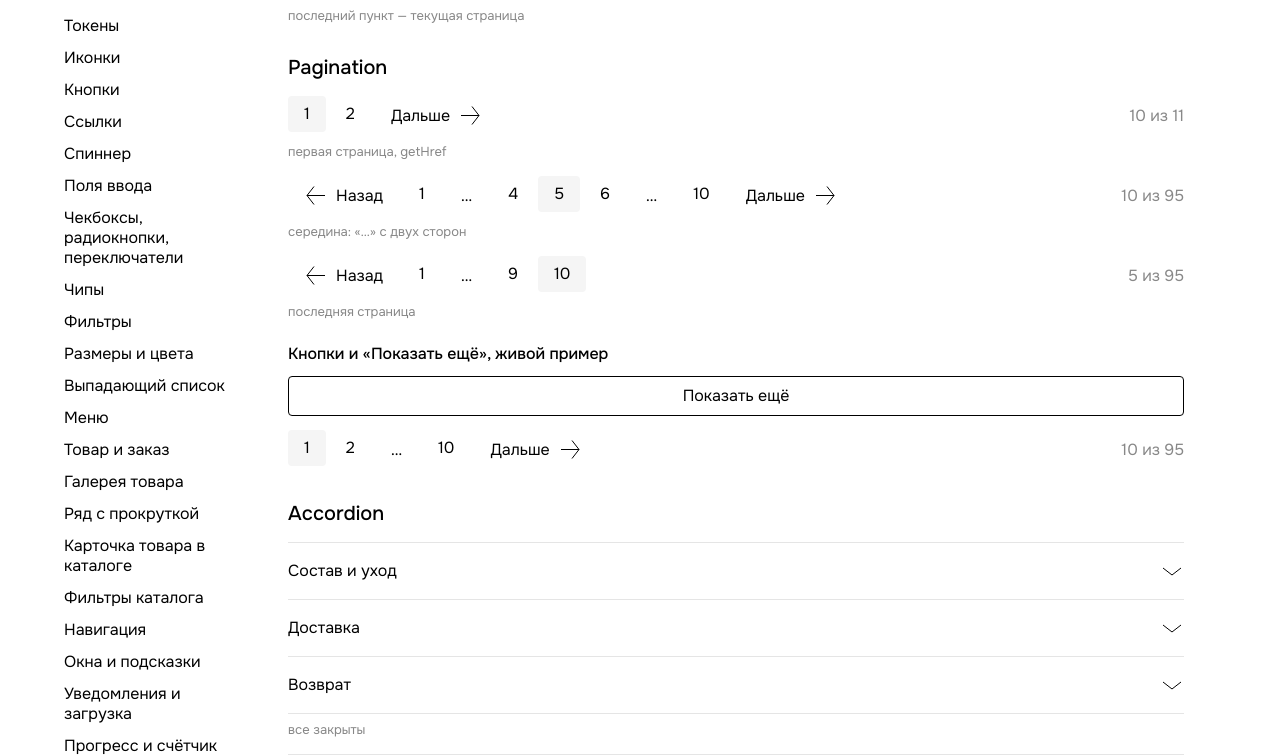
Test: navigation section › live pagination › resets the counter when a page number is picked
(page scrolled)
Click the button "Показать ещё".
click(736, 396)  # box [288, 376, 1184, 416]
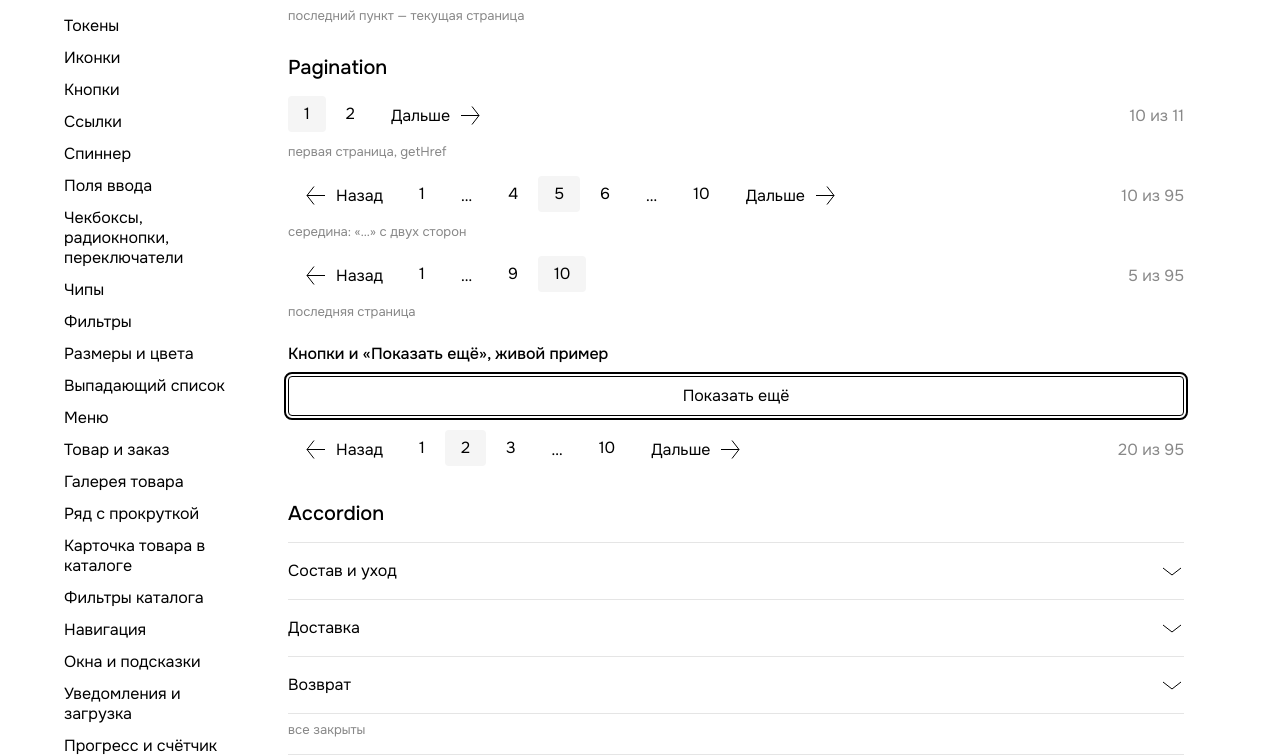
Result: the text "20 из 95" is shown at [1118, 440, 1184, 460]
Click the button named "Страница 3".
click(511, 448)  # box [490, 430, 532, 466]
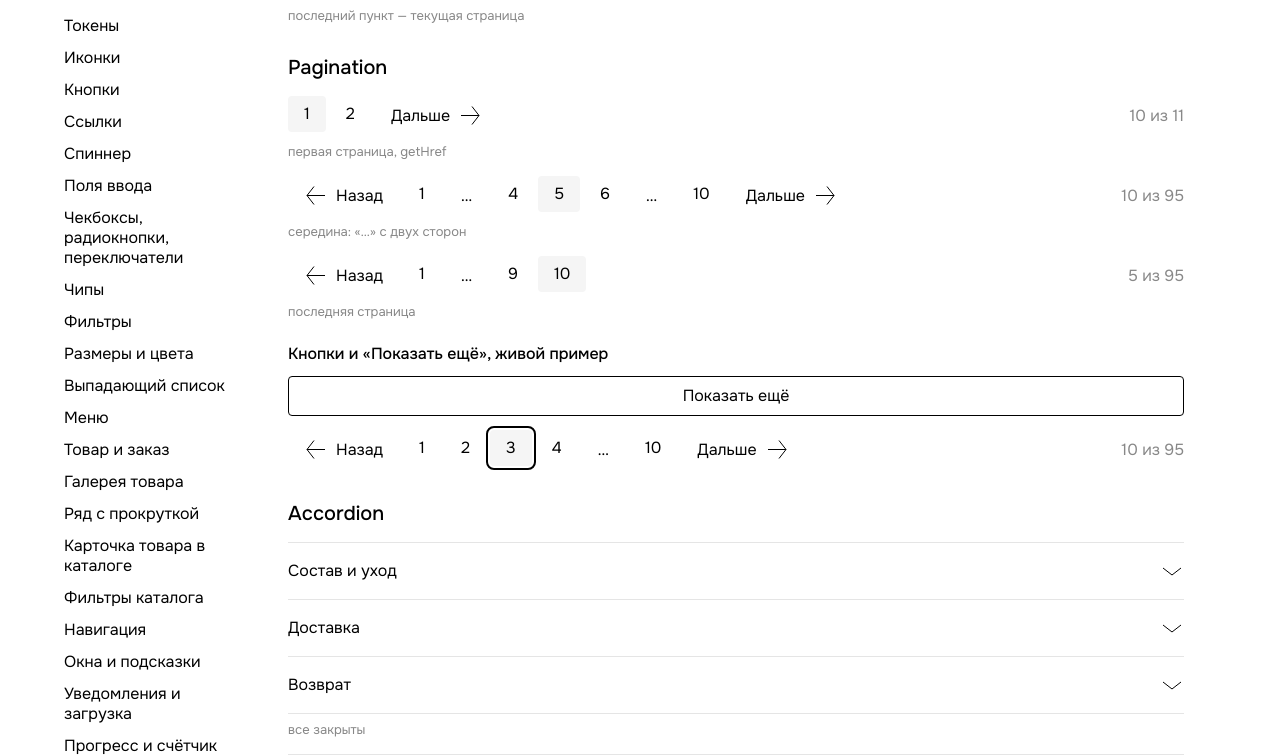
Result: the 2nd text "10 из 95" is shown at [1121, 440, 1184, 460]
